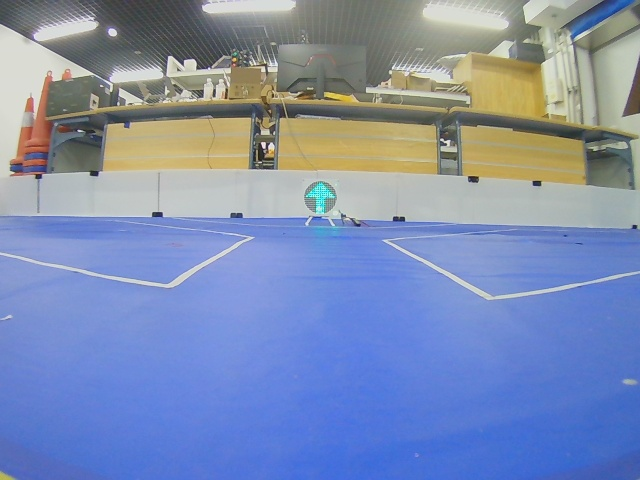straight_green: (304, 181, 337, 215)
